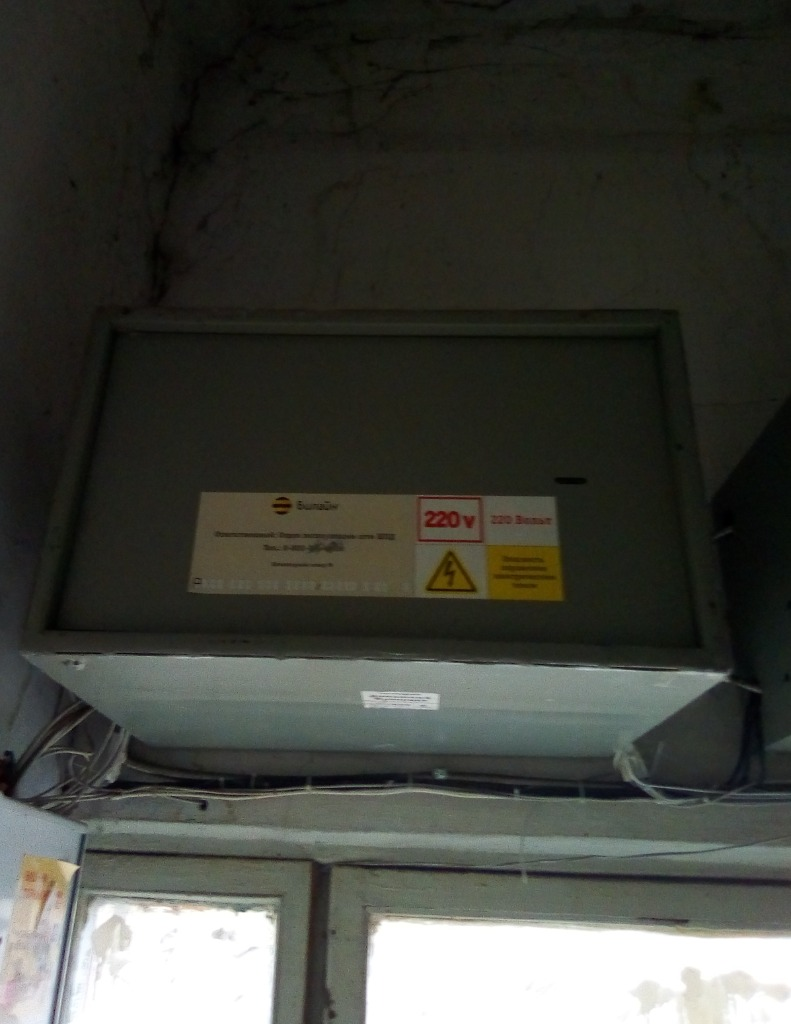e2-6u: (10, 298, 746, 780)
